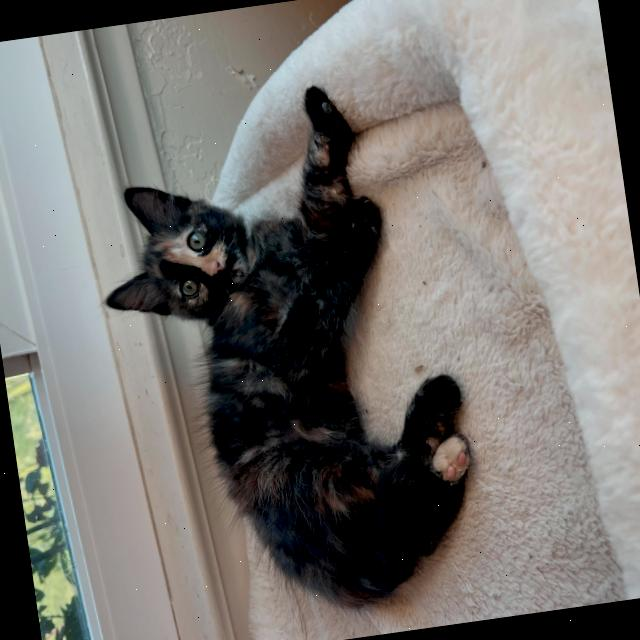domestic_long_hair_cat: (80, 160, 276, 356)
